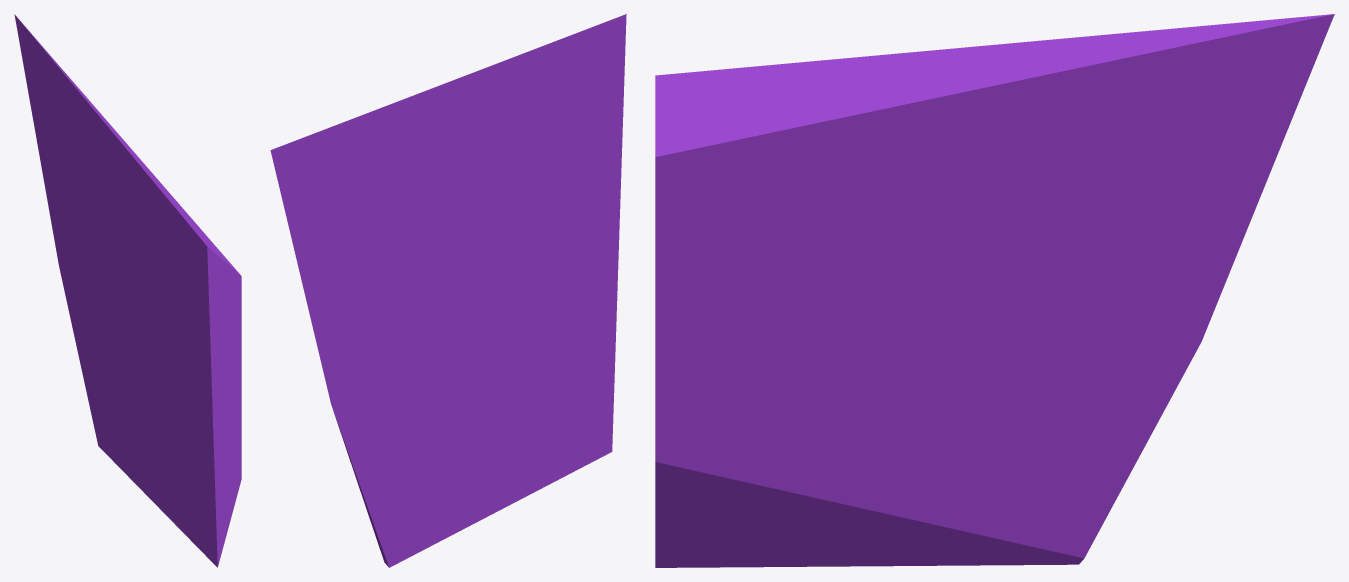
Rendered from Glass_84_4_0_chunks.fbx.
3 renders of one model, left to right at view 1: azimuth 30°, elevation 25°; view 2: azimuth 150°, elevation 25°; view 3: azimuth 270°, elevation 25°, orthographic. The views are drawn at different scales.
Visible parts, largest first — view 1: Glass_84_4_0_0; view 2: Glass_84_4_0_0; view 3: Glass_84_4_0_0.
Part boxes in pixels (x1,y1,x2,y2): Glass_84_4_0_0: (14,14,241,567); Glass_84_4_0_0: (270,14,626,567); Glass_84_4_0_0: (655,14,1334,567).
Bounding box in the file's own units: 23.22 × 247 × 266.
